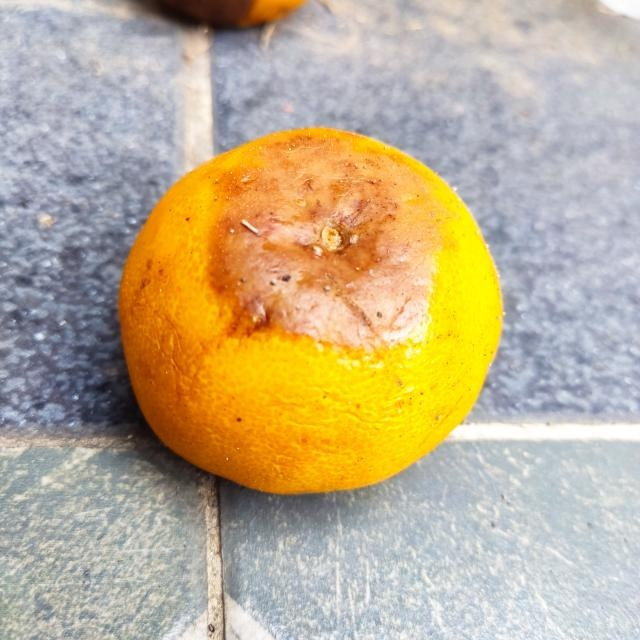agrume: (119, 125, 505, 496)
